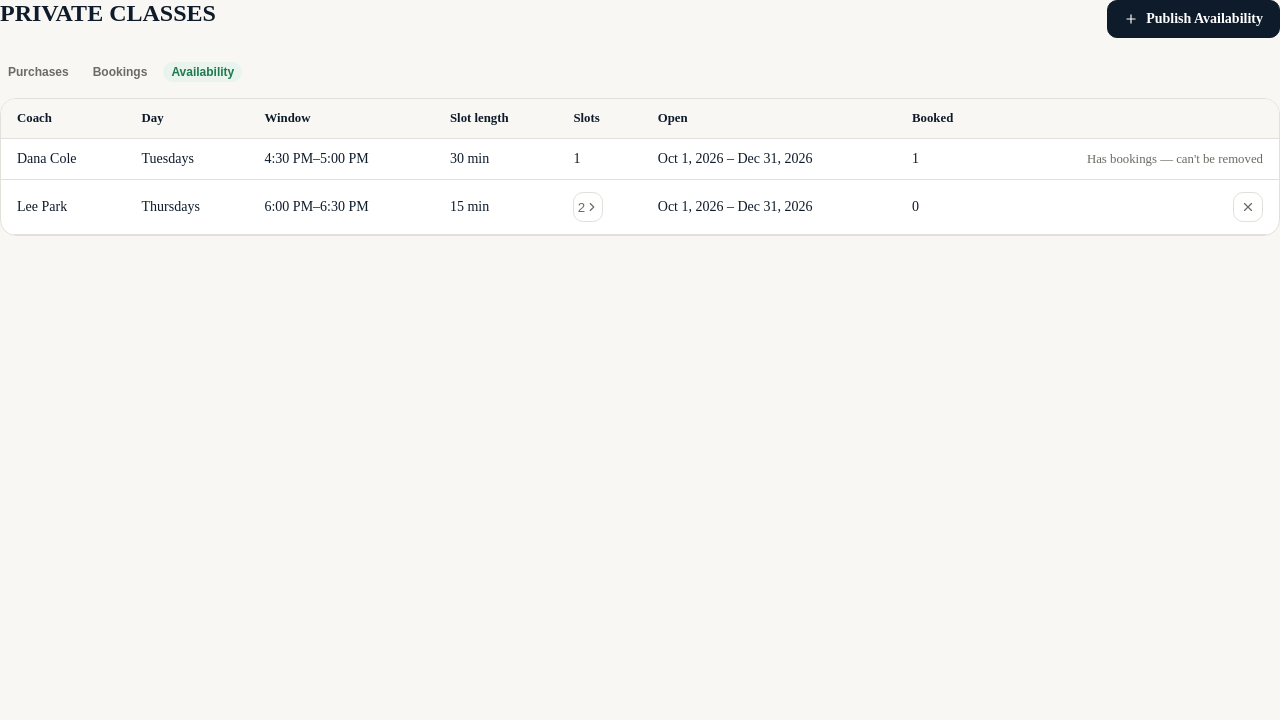
Test: AdminPrivateClassesPage › Availability: removing a window deletes each of its slots
The width and height of the screenshot is (1280, 720).
What coordinates should you click on to do the following:
click the button named "Remove Thursdays · 6:00 PM–6:30 PM"
I would click on:
 (1248, 207)
Its box is [1233,192,1263,222].
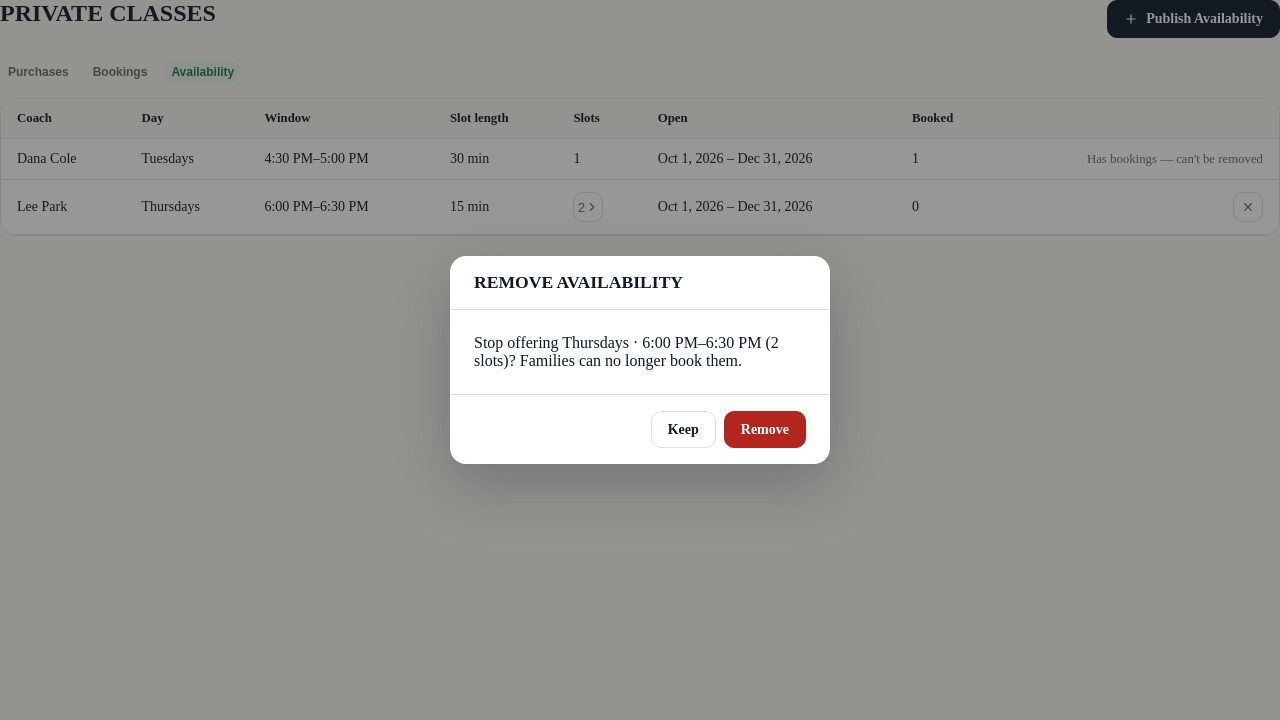
What coordinates should you click on to do the following:
click the button "Remove"
I would click on:
 (765, 430)
Its box is [724,411,806,448].
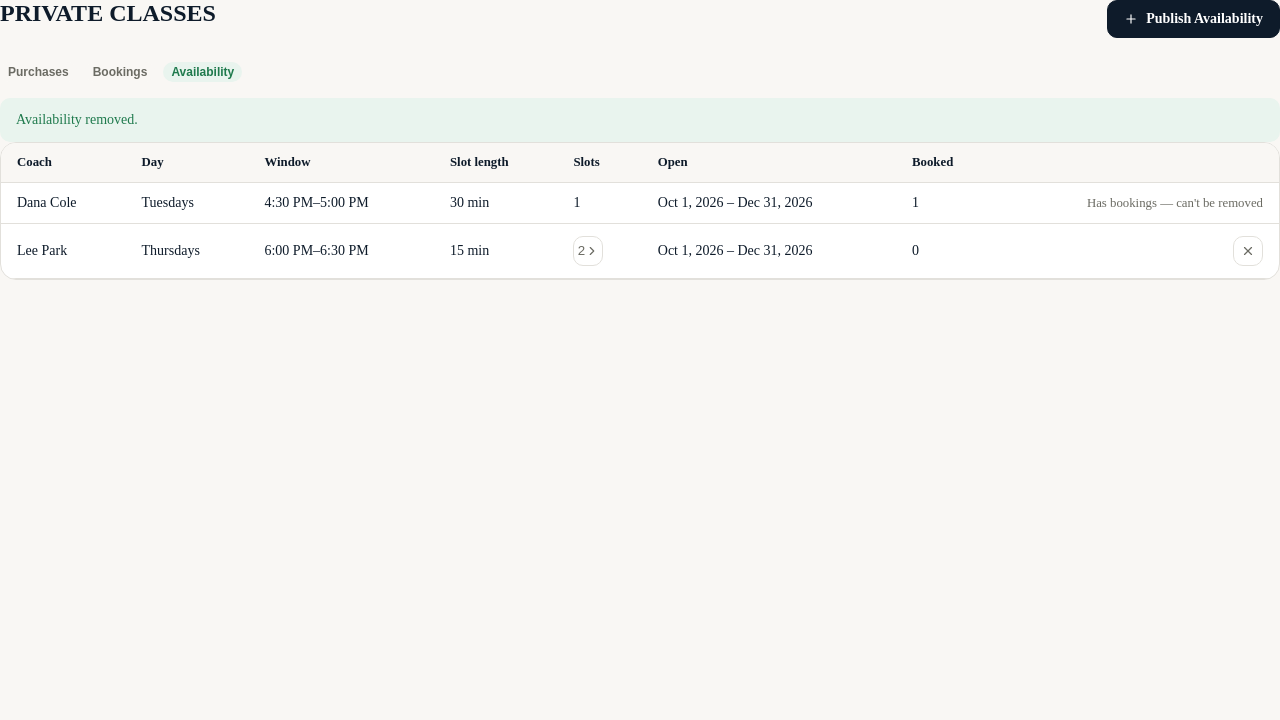
Check: the text "Availability removed." is shown, box [0,98,1279,142]
